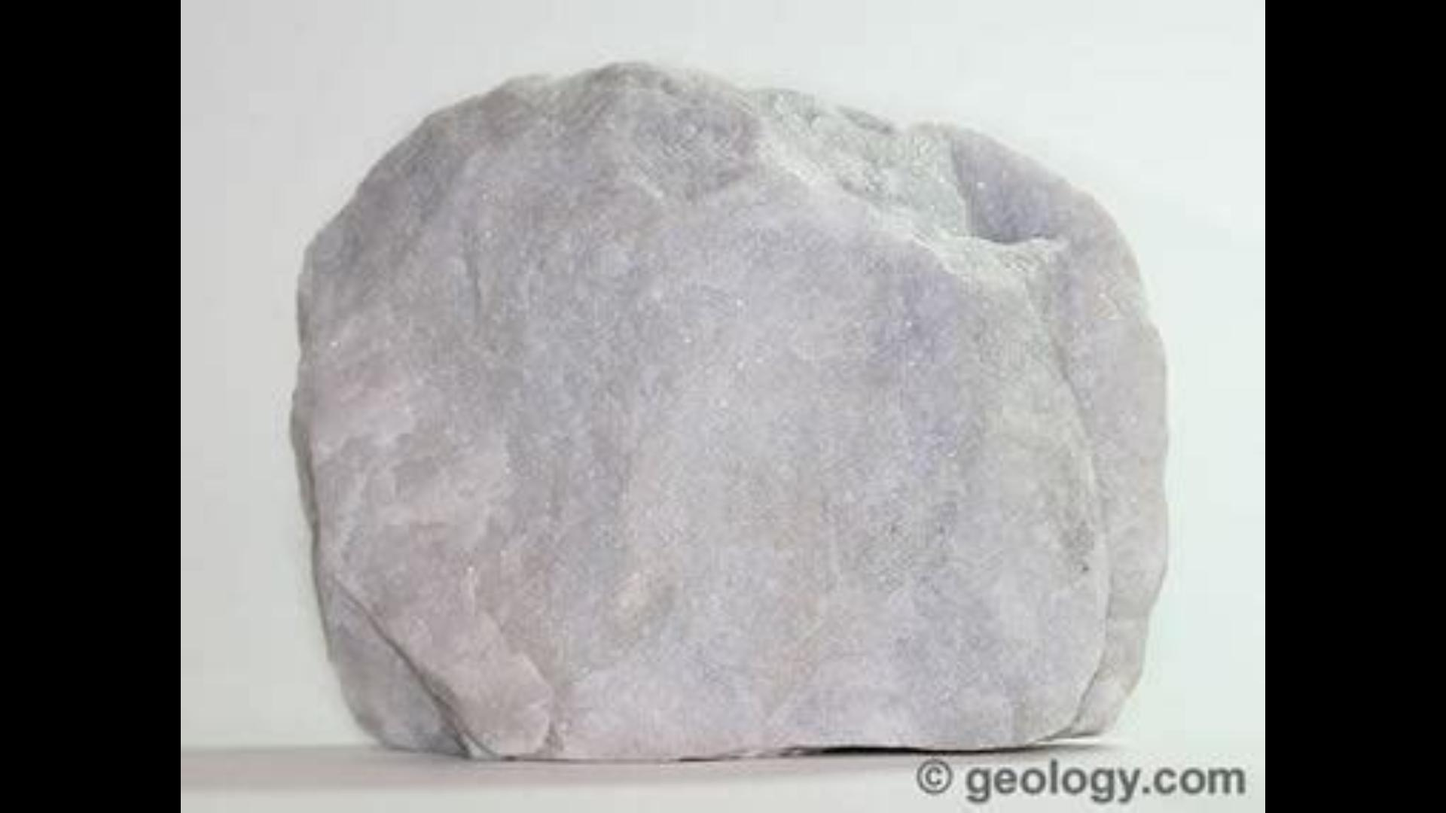rock: (292, 66, 1163, 745)
